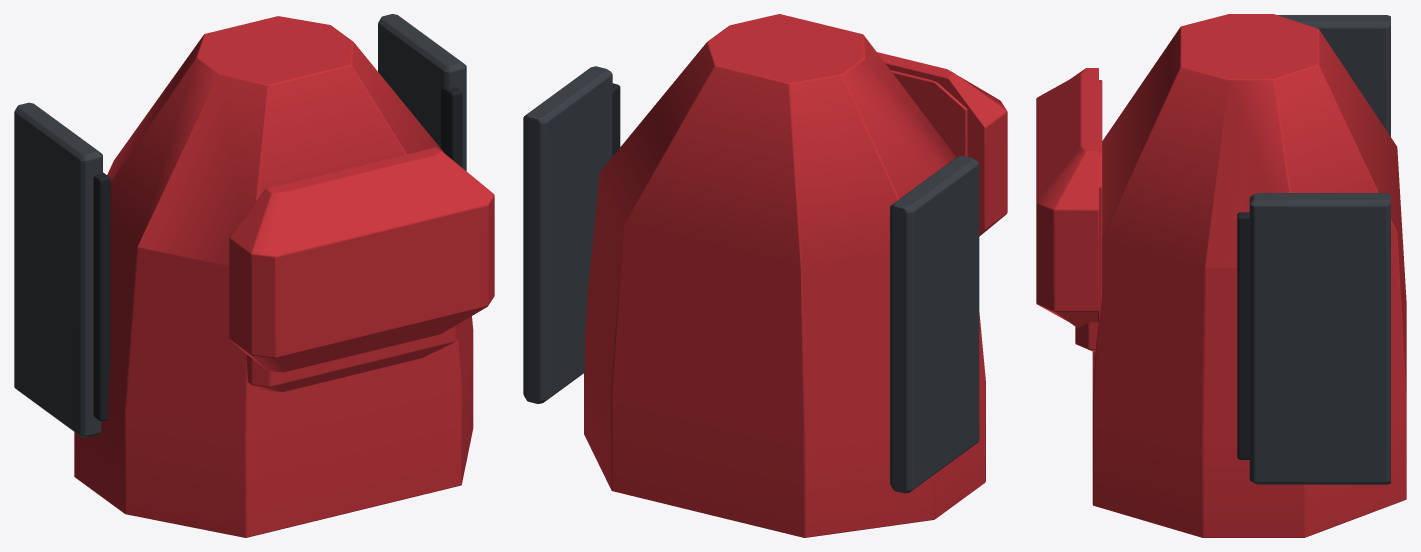
Rendered from QuadBodyFront_Set08_Goliath.fbx.
The picture shows the model from 3 angles, left to right: view 1: azimuth 30°, elevation 25°; view 2: azimuth 150°, elevation 25°; view 3: azimuth 270°, elevation 25°; orthographic projection.
Parts seen in each view (by area): view 1: QuadBodyFront_Set08_Goliath; view 2: QuadBodyFront_Set08_Goliath; view 3: QuadBodyFront_Set08_Goliath.
Boxes of the visible parts, <box> form: QuadBodyFront_Set08_Goliath: <box>14,14,494,537</box>; QuadBodyFront_Set08_Goliath: <box>523,14,1007,537</box>; QuadBodyFront_Set08_Goliath: <box>1036,14,1406,537</box>.
Bounding box in the file's own units: 1 × 1 × 0.826.
